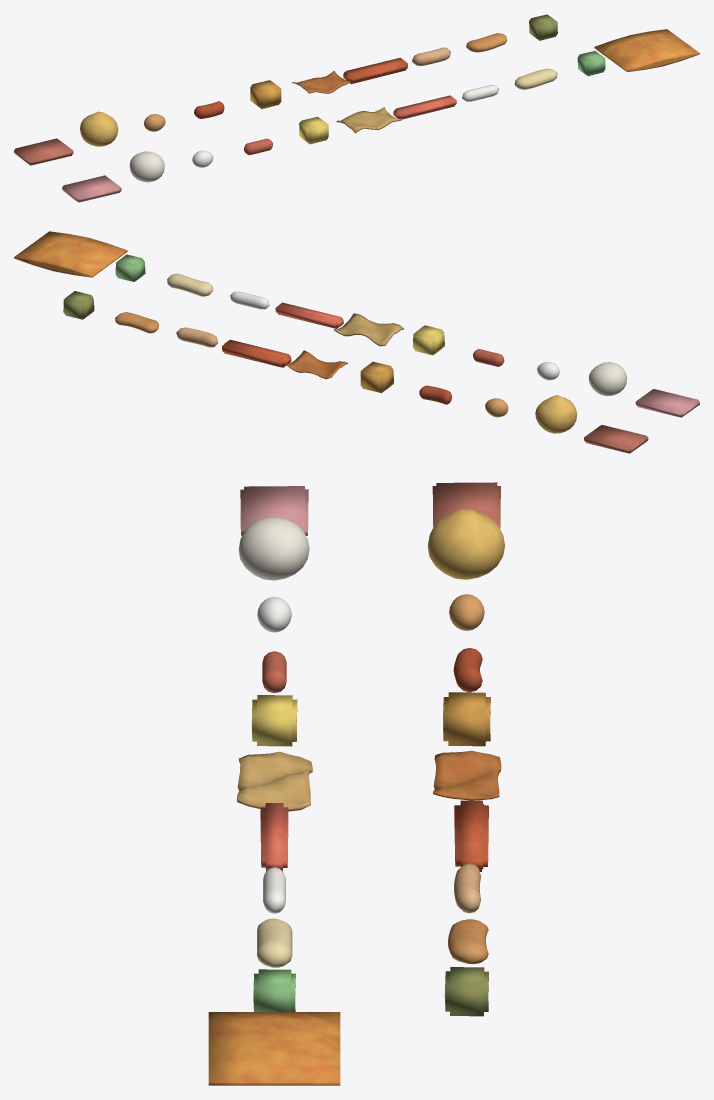
Rendered from Phase2_Meatballs_P2P3.glb.
3 renders of one model, top to bottom at view 1: azimuth 30°, elevation 25°; view 2: azimuth 150°, elevation 25°; view 3: azimuth 270°, elevation 25°, orthographic. The views are drawn at different scales.
Visible parts, largest first — view 1: PackagedItem_Raw, FishBallCheese_Cooked, LuncheonMeat_Cooked, LuncheonMeat_Raw, RedCrabStick_Cooked, FishBallCheese_Raw, FriedTofuSkin_Raw, RedCrabStick_Raw, YellowTofu_Cooked, FriedTofuSkin_Cooked, YellowTofu_Raw, GreenTofuCube_Cooked (+7 smaller); view 2: PackagedItem_Raw, FishBallCheese_Cooked, LuncheonMeat_Cooked, LuncheonMeat_Raw, FriedTofuSkin_Raw, FishBallCheese_Raw, RedCrabStick_Cooked, RedCrabStick_Raw, FriedTofuSkin_Cooked, YellowTofu_Cooked, YellowTofu_Raw, GreenTofuCube_Cooked (+8 smaller); view 3: PackagedItem_Raw, FishBallCheese_Cooked, FriedTofuSkin_Raw, FishBallCheese_Raw, FriedTofuSkin_Cooked, LuncheonMeat_Raw, YellowTofu_Cooked, LuncheonMeat_Cooked, YellowTofu_Raw, RedCrabStick_Cooked, GreenTofuCube_Cooked, RedCrabStick_Raw (+9 smaller).
Boxes of the visible parts, x1,y1,x2,y2 form: PackagedItem_Raw: (594, 29, 699, 71); FishBallCheese_Cooked: (80, 111, 118, 146); LuncheonMeat_Cooked: (14, 138, 73, 165); LuncheonMeat_Raw: (62, 175, 121, 202); RedCrabStick_Cooked: (343, 57, 407, 84); FishBallCheese_Raw: (129, 151, 164, 182); FriedTofuSkin_Raw: (336, 107, 402, 133); RedCrabStick_Raw: (393, 95, 456, 119); YellowTofu_Cooked: (250, 80, 281, 108); FriedTofuSkin_Cooked: (292, 70, 350, 93); YellowTofu_Raw: (299, 116, 328, 144); GreenTofuCube_Cooked: (529, 14, 557, 40); PackagedItem_Raw: (14, 231, 127, 277); FishBallCheese_Cooked: (535, 395, 577, 433); LuncheonMeat_Cooked: (584, 425, 648, 453); LuncheonMeat_Raw: (635, 389, 699, 417); FriedTofuSkin_Raw: (334, 313, 403, 346); FishBallCheese_Raw: (588, 362, 626, 396); RedCrabStick_Cooked: (222, 339, 291, 367); RedCrabStick_Raw: (275, 302, 343, 328); FriedTofuSkin_Cooked: (286, 350, 347, 379); YellowTofu_Cooked: (360, 361, 393, 392); YellowTofu_Raw: (413, 325, 444, 355); GreenTofuCube_Cooked: (63, 291, 94, 319); PackagedItem_Raw: (208, 1012, 340, 1085); FishBallCheese_Cooked: (427, 509, 504, 579); FriedTofuSkin_Raw: (237, 751, 312, 811); FishBallCheese_Raw: (238, 517, 309, 580); FriedTofuSkin_Cooked: (433, 750, 501, 800); LuncheonMeat_Raw: (240, 486, 308, 535); YellowTofu_Cooked: (443, 692, 490, 746); LuncheonMeat_Cooked: (432, 482, 500, 528); YellowTofu_Raw: (251, 695, 297, 746); RedCrabStick_Cooked: (454, 800, 488, 871); GreenTofuCube_Cooked: (444, 967, 488, 1016); RedCrabStick_Raw: (260, 803, 288, 871).
Size of the model in its own units: 0.8849 by 0.0451 by 0.1849.
Materials: 21 (21 with a texture image).
